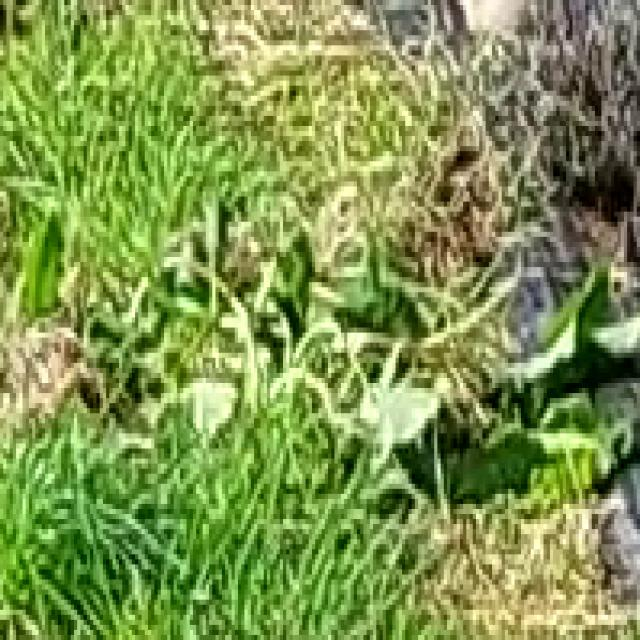organic waste: (45, 116, 624, 574)
